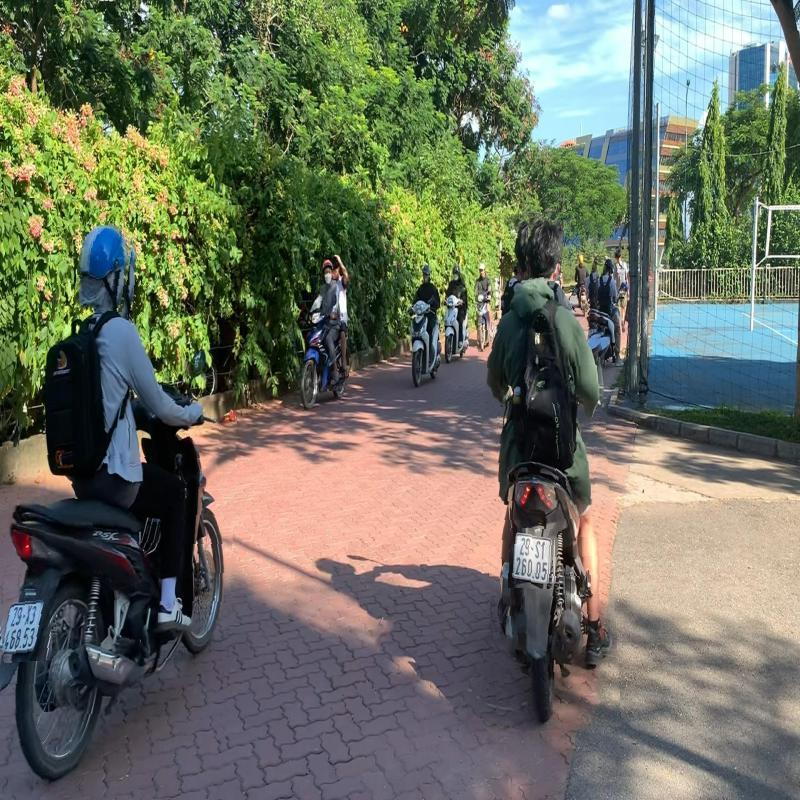helmet: (75, 208, 134, 311)
licenseplate: (0, 589, 51, 662), (508, 528, 553, 590)
motorcyclist: (0, 199, 239, 799), (478, 211, 615, 732)
nohelmet: (526, 218, 564, 280)
